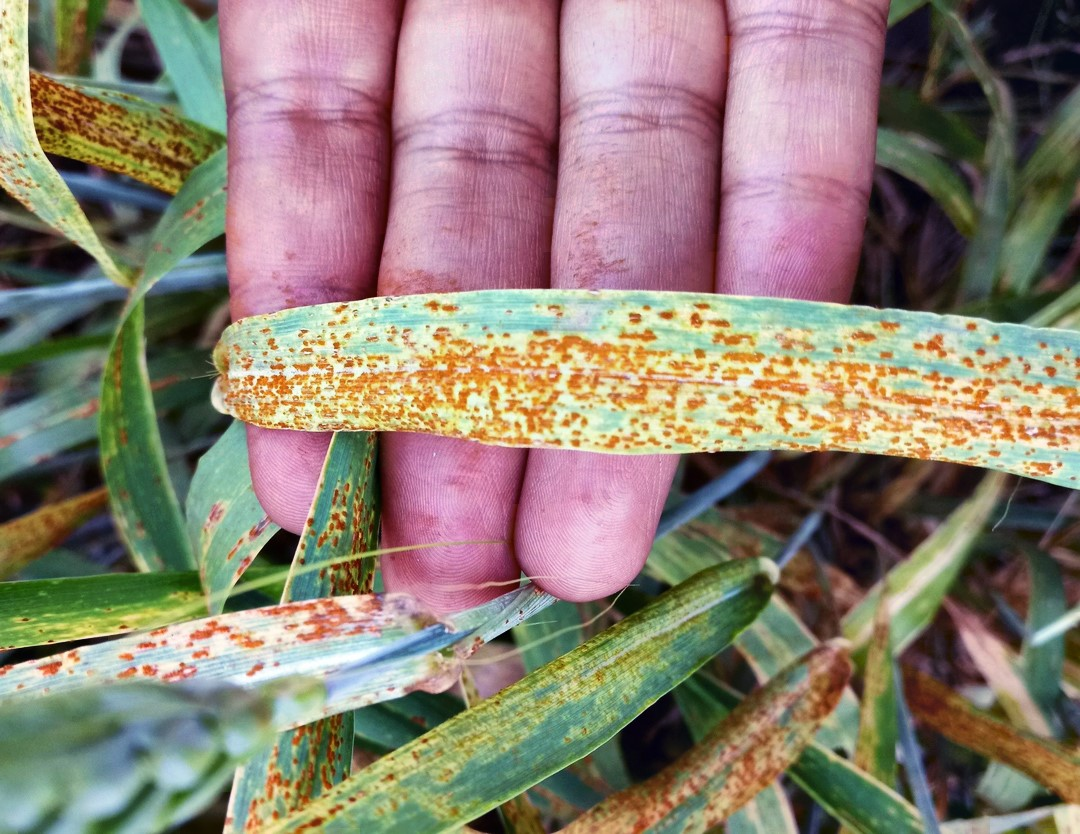Leaf Rust: (264, 292, 1069, 496)
